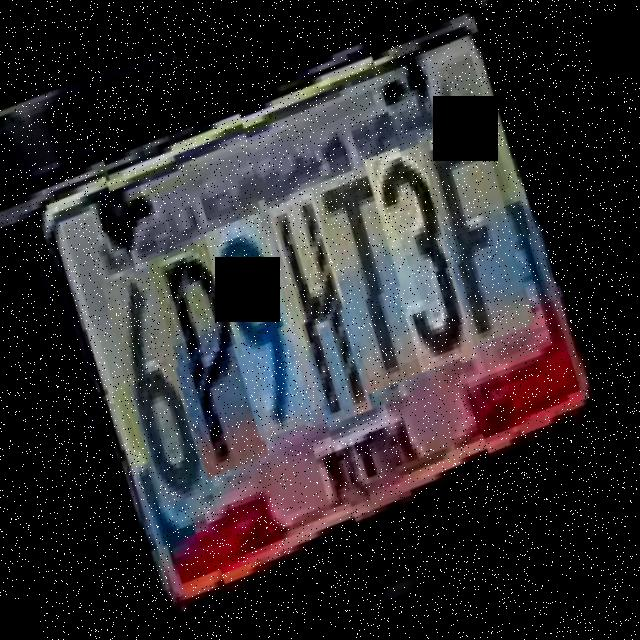3: (344, 123, 494, 370)
6: (87, 257, 237, 513)
9: (187, 202, 334, 442)
F: (396, 94, 551, 339)
H: (248, 175, 391, 423)
P: (131, 225, 290, 479)
T: (292, 146, 445, 390)
